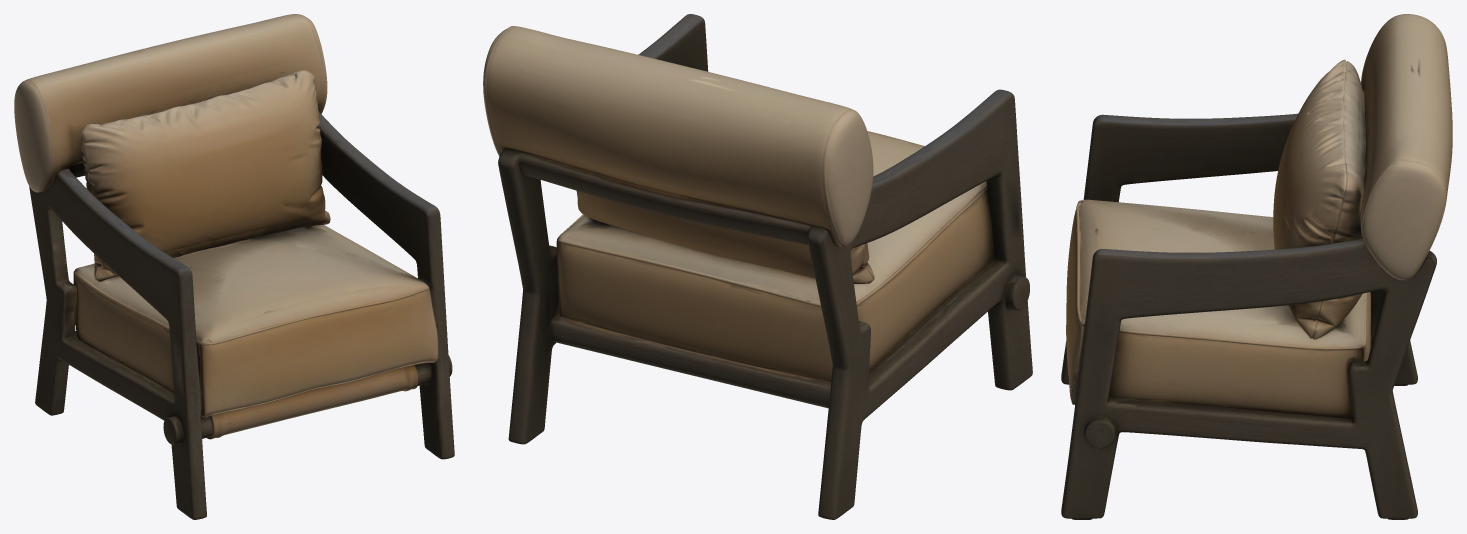
The model's file is c01-realistic.glb.
3 renders of one model, left to right at view 1: azimuth 30°, elevation 25°; view 2: azimuth 150°, elevation 25°; view 3: azimuth 270°, elevation 25°, orthographic. The views are drawn at different scales.
Visible parts, largest first — view 1: node_0; view 2: node_0; view 3: node_0.
Part boxes in pixels (x1,y1,x2,y2): node_0: (14,14,454,519); node_0: (483,14,1032,519); node_0: (1061,14,1452,519).
Size of the model in its own units: 0.6849 by 0.7508 by 0.7277.
1 material, 1 textured.
